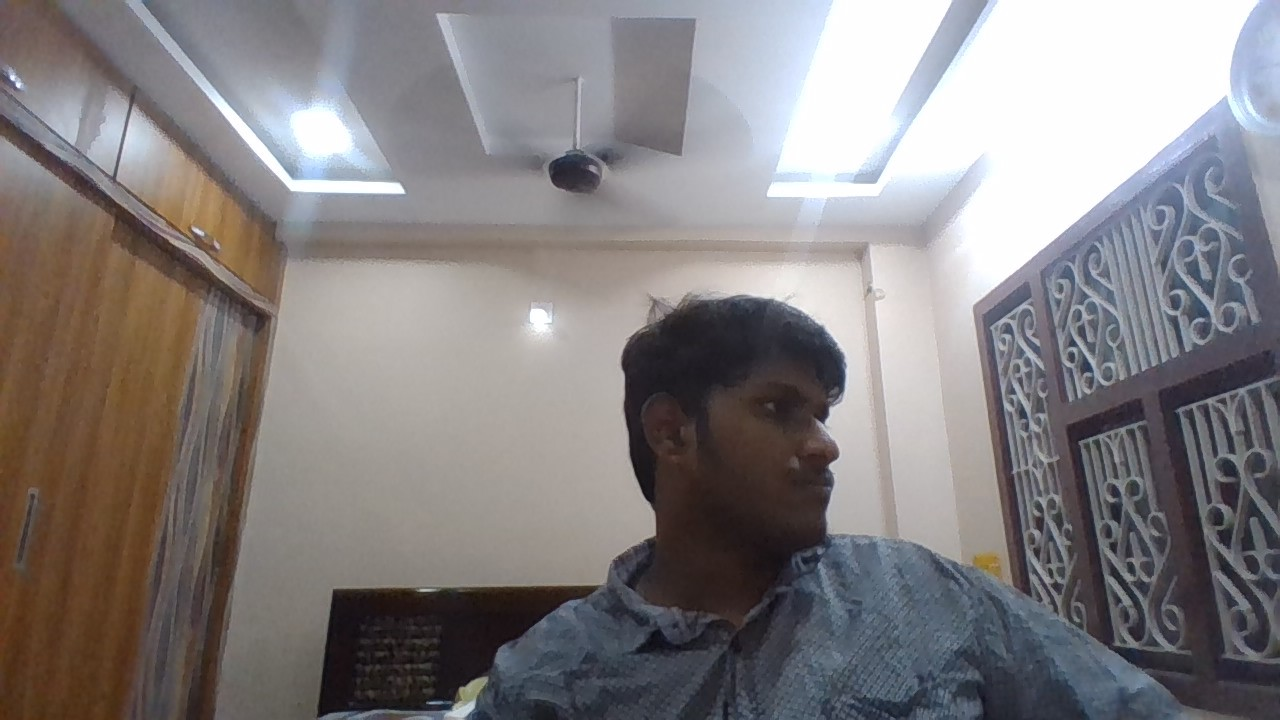person: (558, 179, 1125, 720)
